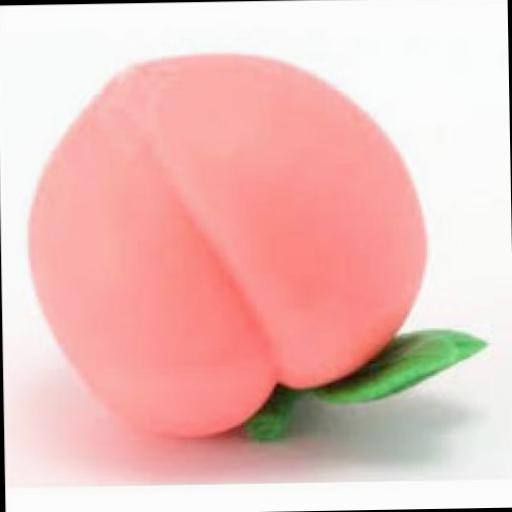biodegradable: (21, 47, 427, 448)
